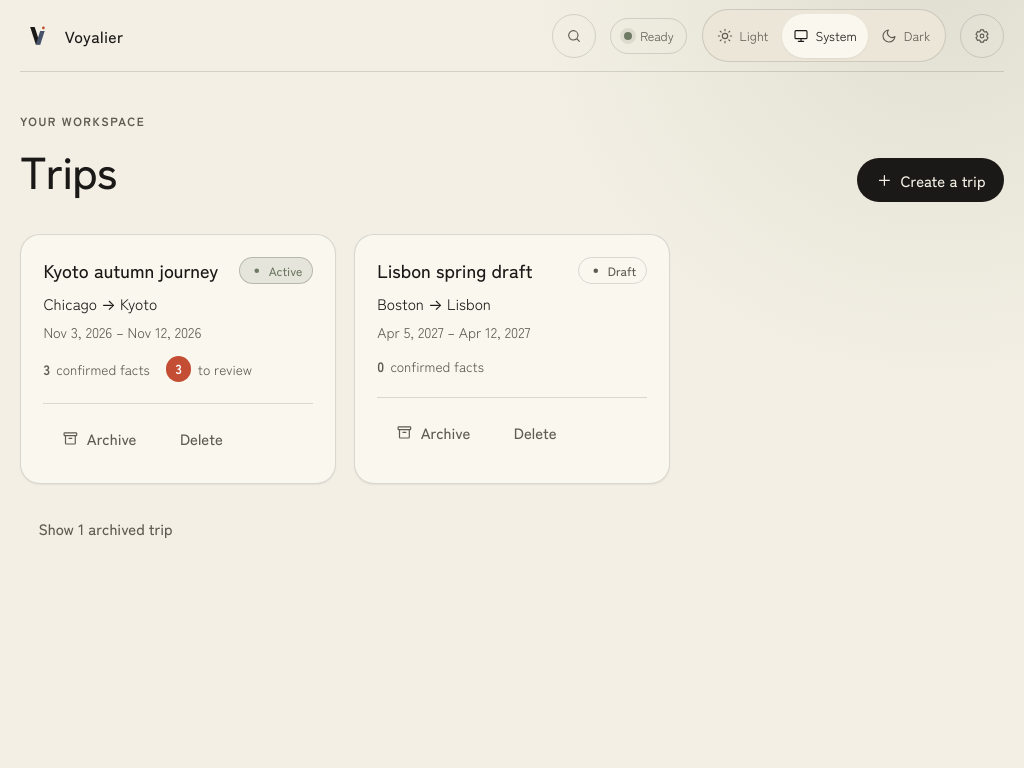
it: airport code suggestions › suggests by code and shows the airport's name beside it
Later steps or results of the test are not shown.
Click the button with aria-label "Open Kyoto autumn journey": (131, 270) [43, 257, 218, 283]
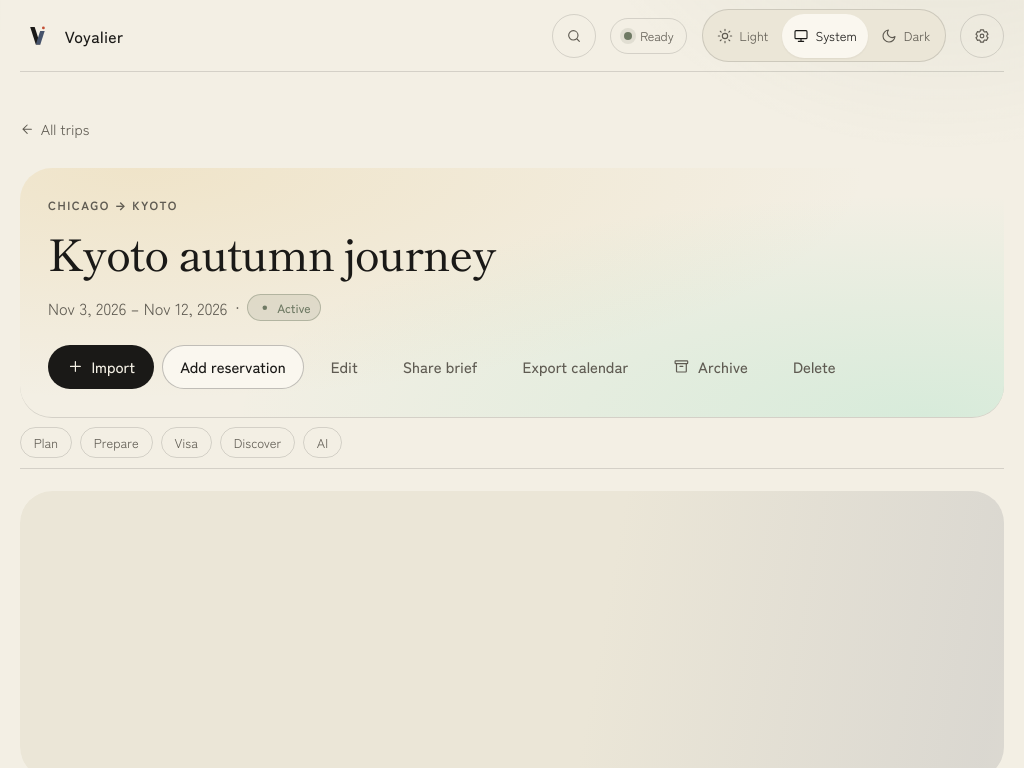
Click the button "Add reservation": (233, 367) [162, 345, 304, 389]
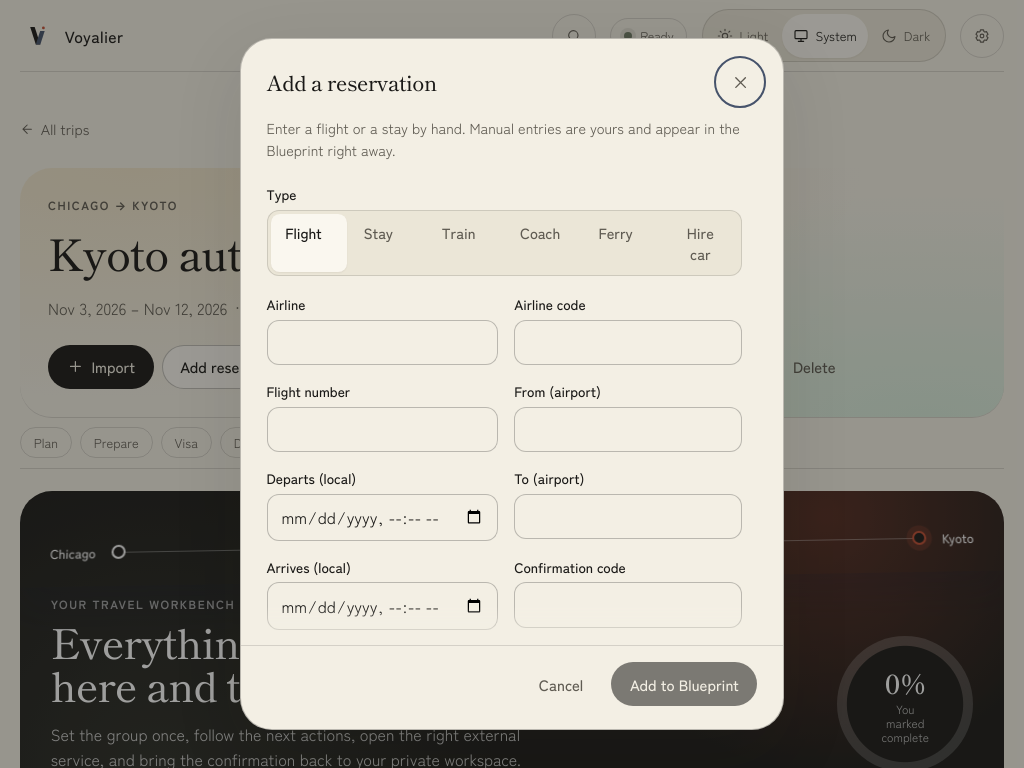
In the field labelled "From (airport)": (628, 429) [514, 407, 742, 452], type "kix"
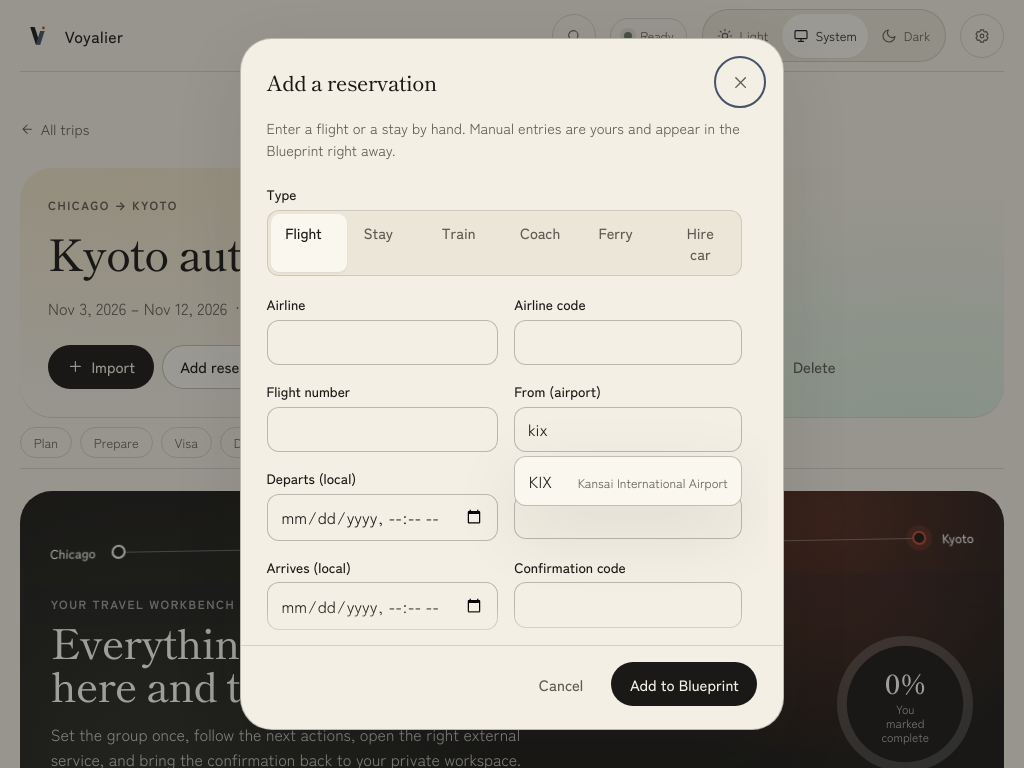
expect the option "KIX Kansai International Airport" is shown: met, box [519, 461, 737, 501]
